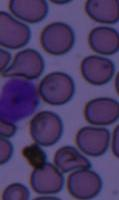L: (1, 75, 43, 124)
